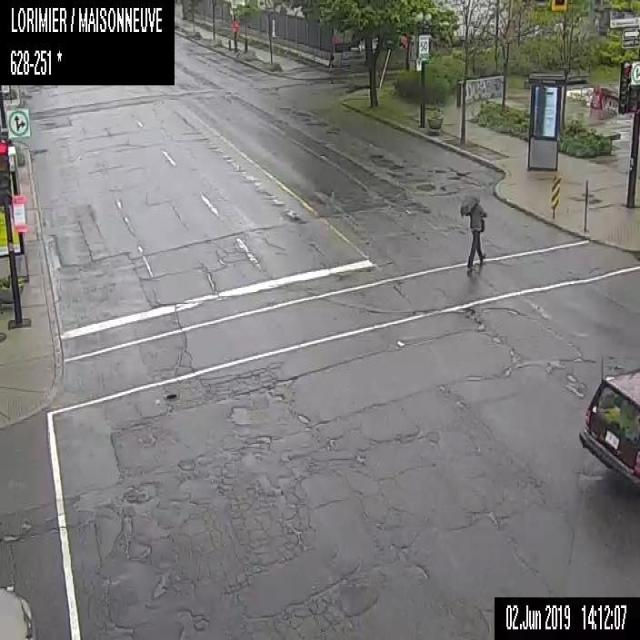pedestrian: (459, 189, 487, 268)
vehicle: (577, 367, 639, 485), (0, 582, 37, 638)
